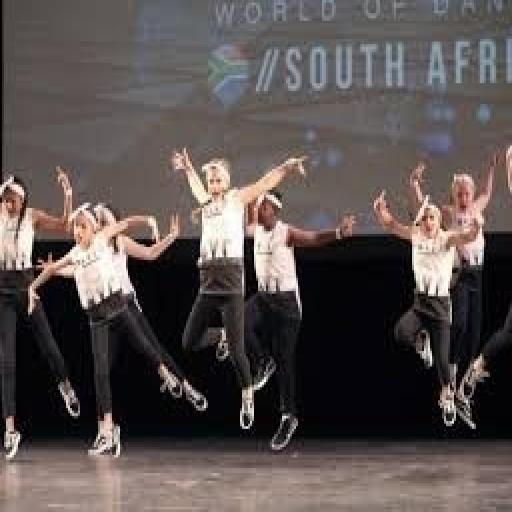dancing: (24, 198, 210, 462), (168, 143, 312, 437), (216, 184, 360, 455), (370, 184, 484, 432), (0, 164, 82, 462)
